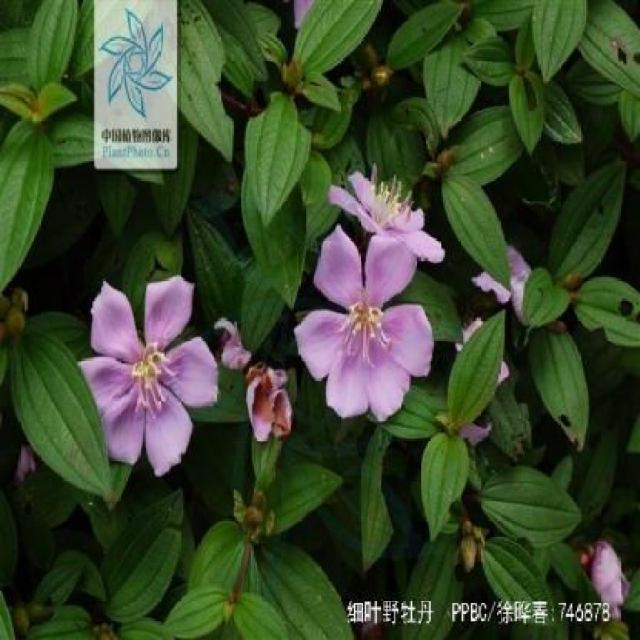flower: (62, 263, 216, 483), (290, 222, 442, 421), (218, 310, 307, 448), (325, 159, 440, 255), (464, 234, 542, 338), (579, 524, 632, 608)
